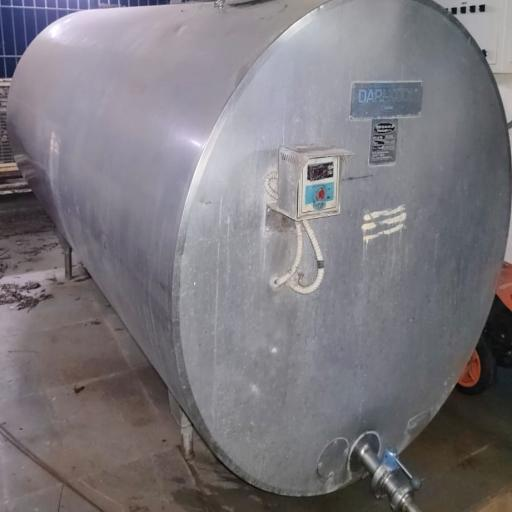silo: (4, 0, 510, 498)
